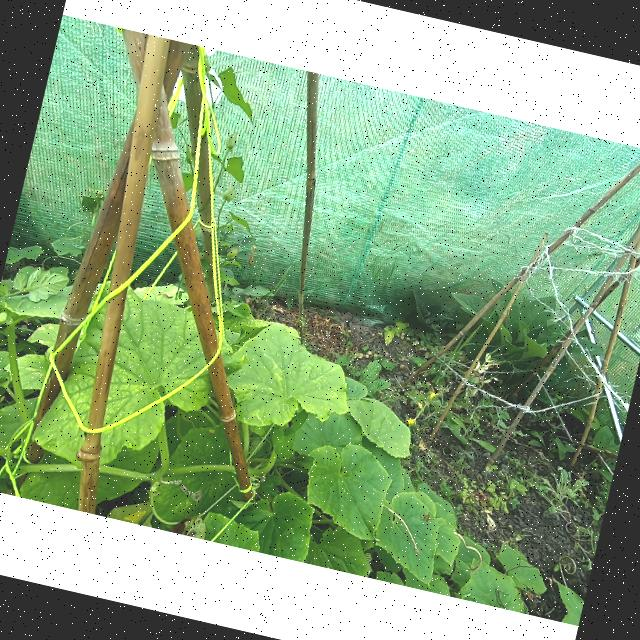Flowers: (404, 416, 417, 428), (426, 390, 437, 402), (415, 400, 424, 410)
